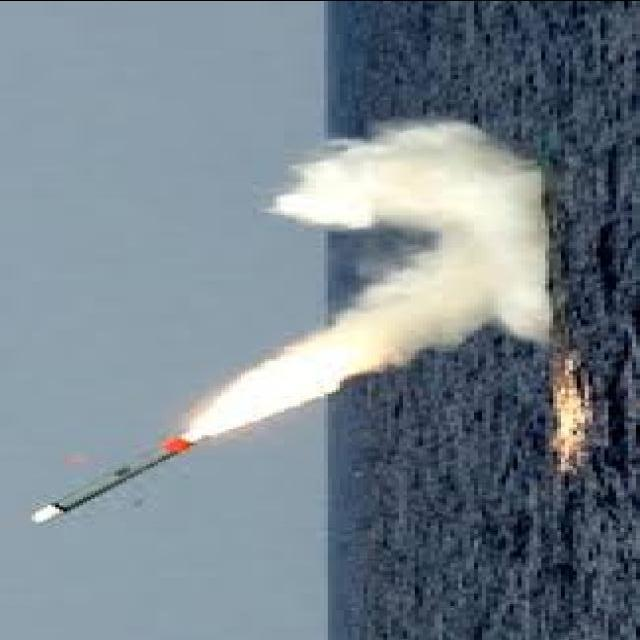missile: (30, 438, 188, 529)
